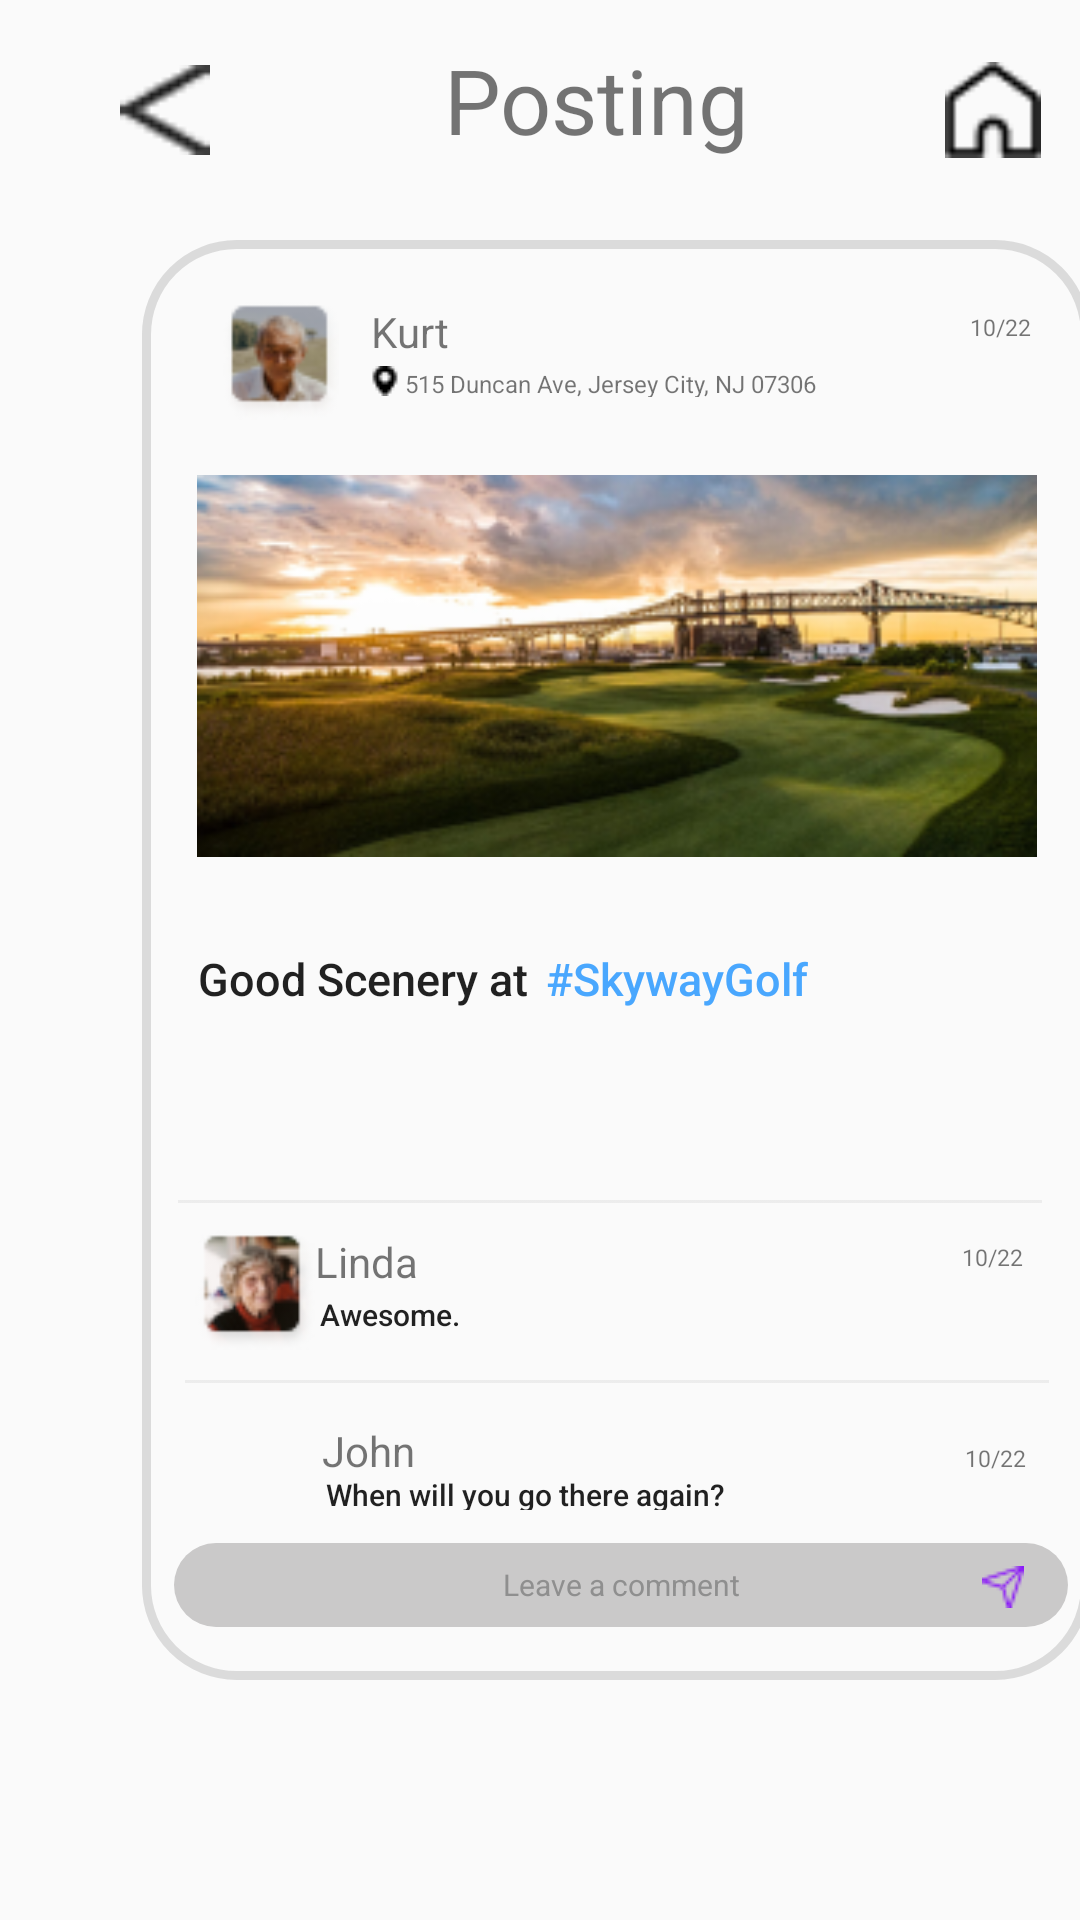

Named icons in this screenshot (1080w x 1920h) and their centers, [x,y]:
home: [993,110]
location: [385,381]
person: [279,354], [252,1285]
